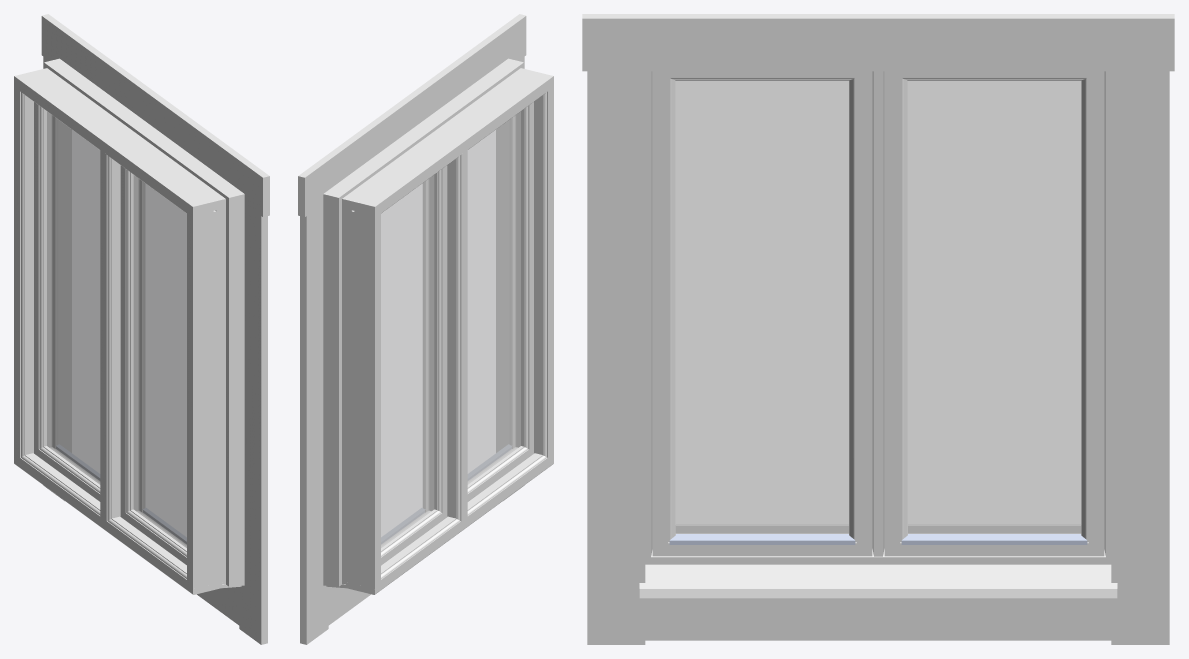
The picture shows the model from 3 angles, left to right: view 1: azimuth 30°, elevation 25°; view 2: azimuth 150°, elevation 25°; view 3: azimuth 270°, elevation 25°; orthographic projection. The views are drawn at different scales.
Parts seen in each view (by area): view 1: Glas polarfönster_WEB-1 - Part, Glas polarfönster_WEB-1 2 - Part, Glas polarfönster_WEB-2 - Part, Glas polarfönster_WEB-2 2 - Part, Karmdel stående_WEB-1 - Part, Fönsterfoder_WEB-2 - Part, Fönsterfoder_WEB-1 - Part, Stående Fönsterbåge_WEB-2 - Part, Karmdel Överliggare_WEB-1 - Part, Stående Fönsterbåge_WEB-2 2 - Part, Karmmittdel stående_WEB-1 - Part, Påsalning yttersida_WEB-5 - Part (+8 smaller); view 2: Glas polarfönster_WEB-1 - Part, Glas polarfönster_WEB-1 2 - Part, Glas polarfönster_WEB-2 2 - Part, Glas polarfönster_WEB-2 - Part, Karmdel stående_WEB-2 - Part, Fönsterfoder_WEB-3 - Part, Fönsterfoder_WEB-1 - Part, Stående Fönsterbåge_WEB-1 2 - Part, Karmdel Överliggare_WEB-1 - Part, Stående Fönsterbåge_WEB-1 - Part, Karmmittdel stående_WEB-1 - Part, Påsalning yttersida_WEB-6 - Part (+8 smaller); view 3: Glas polarfönster_WEB-2 - Part, Glas polarfönster_WEB-2 2 - Part, Glas polarfönster_WEB-1 - Part, Glas polarfönster_WEB-1 2 - Part, Fönsterfoder_WEB-1 - Part, Fönsterfoder_WEB-2 - Part, Fönsterfoder_WEB-3 - Part, Fönsterfoder_WEB-4 - Part, Fönsterbläck_WEB-1 - Part, Stående Fönsterbåge_WEB-1 - Part, Stående Fönsterbåge_WEB-2 - Part, Stående Fönsterbåge_WEB-1 2 - Part (+11 smaller).
Boxes of the visible parts, <box> form: Glas polarfönster_WEB-1 - Part: <box>134,175,186,547</box>; Glas polarfönster_WEB-1 2 - Part: <box>47,112,99,484</box>; Glas polarfönster_WEB-2 - Part: <box>139,179,186,545</box>; Glas polarfönster_WEB-2 2 - Part: <box>52,116,99,481</box>; Karmdel stående_WEB-1 - Part: <box>187,209,225,588</box>; Fönsterfoder_WEB-2 - Part: <box>239,204,267,644</box>; Fönsterfoder_WEB-1 - Part: <box>41,14,269,216</box>; Stående Fönsterbåge_WEB-2 - Part: <box>120,165,144,520</box>; Karmdel Överliggare_WEB-1 - Part: <box>14,68,225,216</box>; Stående Fönsterbåge_WEB-2 2 - Part: <box>34,102,57,456</box>; Karmmittdel stående_WEB-1 - Part: <box>100,150,120,520</box>; Påsalning yttersida_WEB-5 - Part: <box>223,190,244,586</box>; Glas polarfönster_WEB-1 - Part: <box>468,112,520,484</box>; Glas polarfönster_WEB-1 2 - Part: <box>381,175,433,547</box>; Glas polarfönster_WEB-2 2 - Part: <box>381,179,429,545</box>; Glas polarfönster_WEB-2 - Part: <box>468,115,515,481</box>; Karmdel stående_WEB-2 - Part: <box>342,209,380,588</box>; Fönsterfoder_WEB-3 - Part: <box>300,204,328,644</box>; Fönsterfoder_WEB-1 - Part: <box>298,14,526,216</box>; Stående Fönsterbåge_WEB-1 2 - Part: <box>423,165,447,520</box>; Karmdel Överliggare_WEB-1 - Part: <box>342,68,553,216</box>; Stående Fönsterbåge_WEB-1 - Part: <box>510,102,533,456</box>; Karmmittdel stående_WEB-1 - Part: <box>447,150,467,520</box>; Påsalning yttersida_WEB-6 - Part: <box>323,190,344,586</box>; Glas polarfönster_WEB-2 - Part: <box>676,81,848,533</box>; Glas polarfönster_WEB-2 2 - Part: <box>908,81,1080,533</box>; Glas polarfönster_WEB-1 - Part: <box>676,81,848,525</box>; Glas polarfönster_WEB-1 2 - Part: <box>908,81,1080,525</box>; Fönsterfoder_WEB-1 - Part: <box>582,14,1174,71</box>; Fönsterfoder_WEB-2 - Part: <box>587,71,645,644</box>; Fönsterfoder_WEB-3 - Part: <box>1111,71,1169,644</box>; Fönsterfoder_WEB-4 - Part: <box>645,598,1111,640</box>; Fönsterbläck_WEB-1 - Part: <box>639,563,1117,598</box>; Stående Fönsterbåge_WEB-1 - Part: <box>652,71,675,556</box>; Stående Fönsterbåge_WEB-2 - Part: <box>849,71,872,556</box>; Stående Fönsterbåge_WEB-1 2 - Part: <box>884,71,907,556</box>.
Size of the model in its own units: 0.1872 by 1.42 by 1.22.
Materials: 27 (20 with a texture image).
